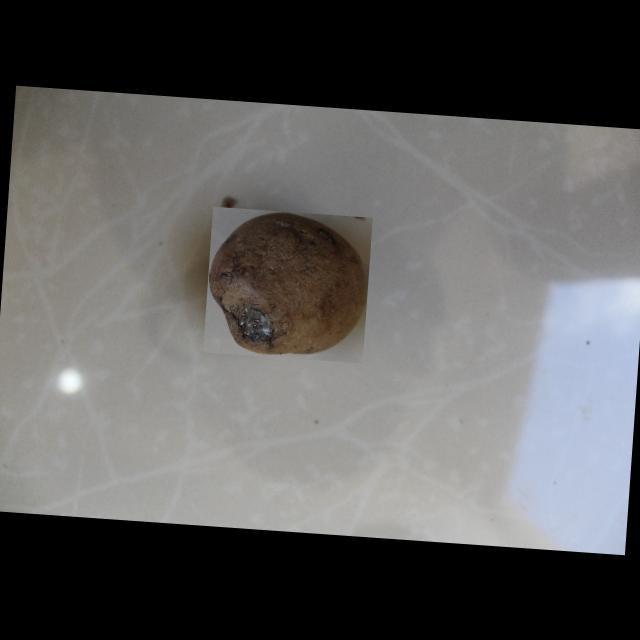Diseased-fungal potato: (202, 206, 372, 363)
